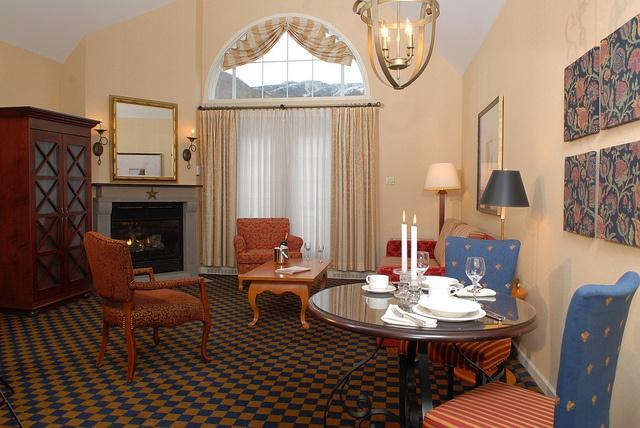Kursi: (80, 230, 211, 383)
Meja: (237, 256, 332, 330)
